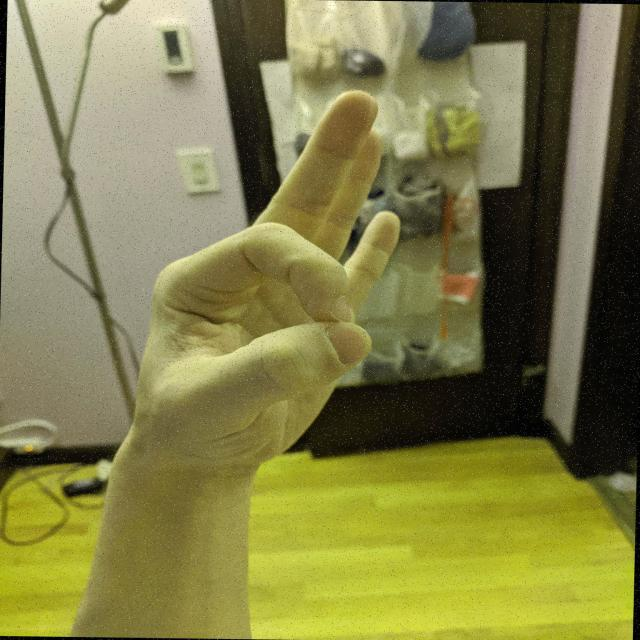F: (119, 82, 414, 488)
